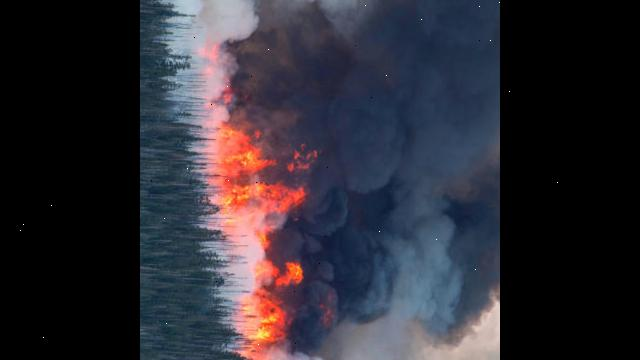fire: (177, 53, 337, 360)
